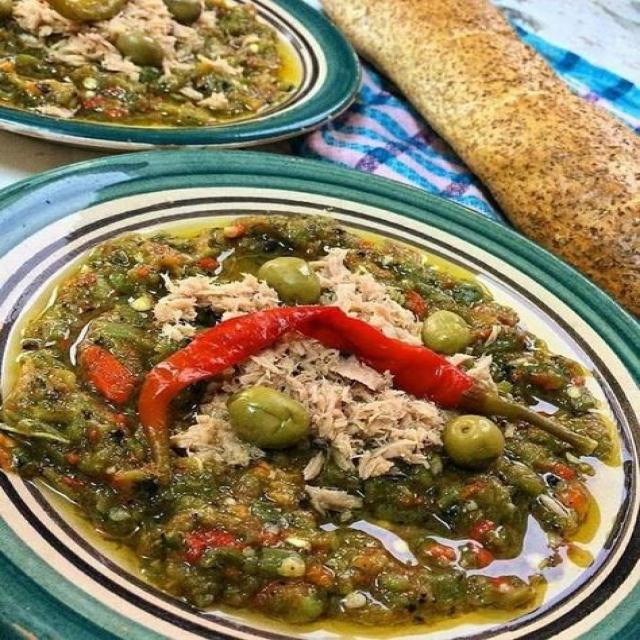Salade mechweya: (0, 161, 637, 640), (0, 0, 368, 172)
